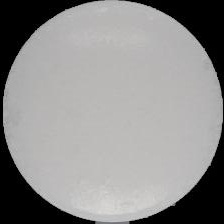63629-1591: (0, 0, 224, 224)
